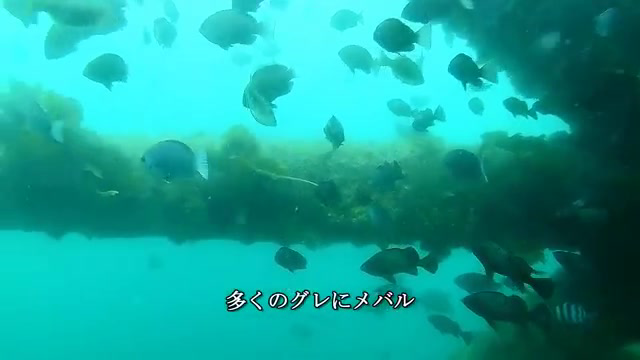smallfish: (471, 236, 569, 297), (241, 53, 299, 142), (192, 6, 292, 56), (357, 244, 442, 295), (459, 293, 554, 336), (138, 135, 219, 185), (77, 49, 152, 100), (382, 49, 444, 96), (373, 12, 438, 54), (334, 42, 393, 85), (408, 104, 460, 140), (442, 54, 497, 87), (493, 96, 547, 127), (273, 239, 306, 283), (326, 9, 370, 38), (318, 114, 353, 146), (383, 97, 421, 126)
